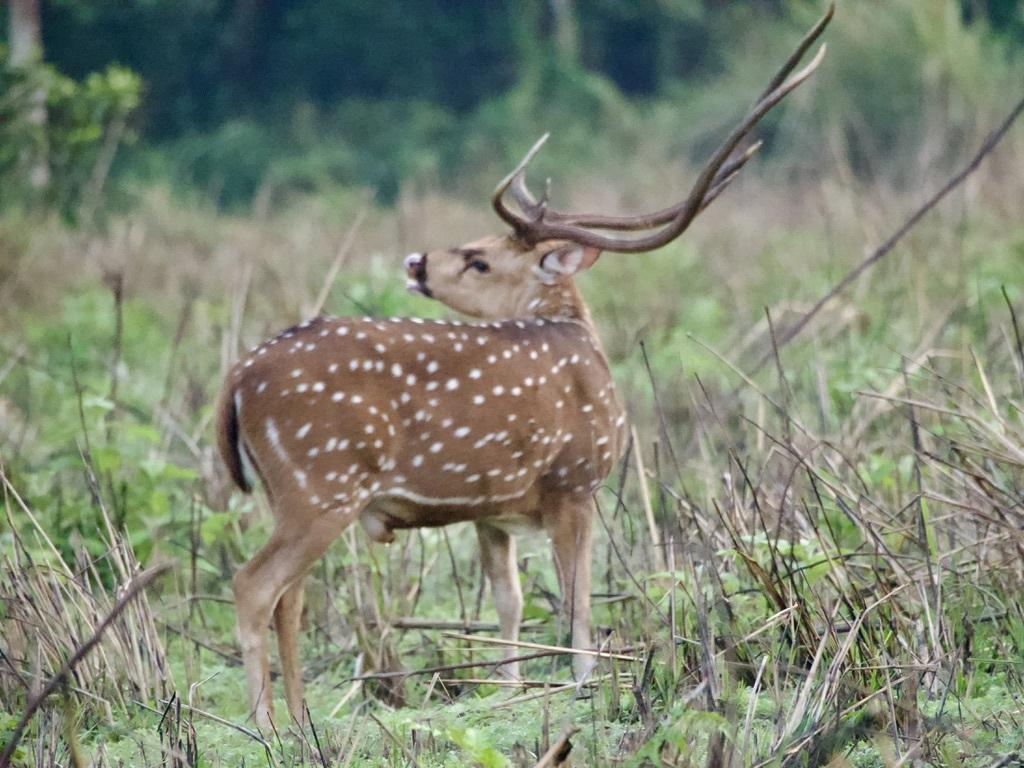Deer: (217, 3, 834, 720)
